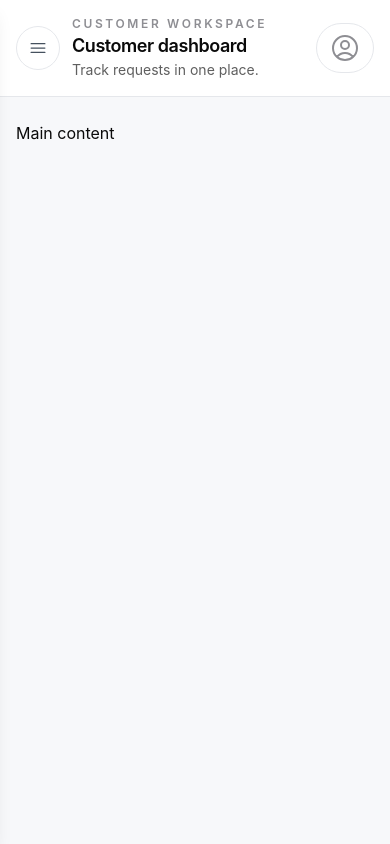
Test: toggles the mobile navigation drawer open and closed
Later steps or results of the test are not shown.
What coordinates should you click on to do the following:
click the button named "Open navigation"
I would click on:
 (38, 48)
Its box is [16,26,60,70].
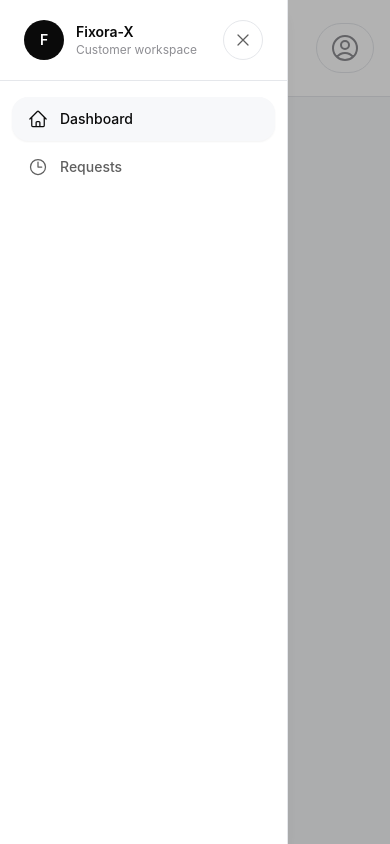
expect the element named "Customer workspace navigation" has class "translate-x-0": met
